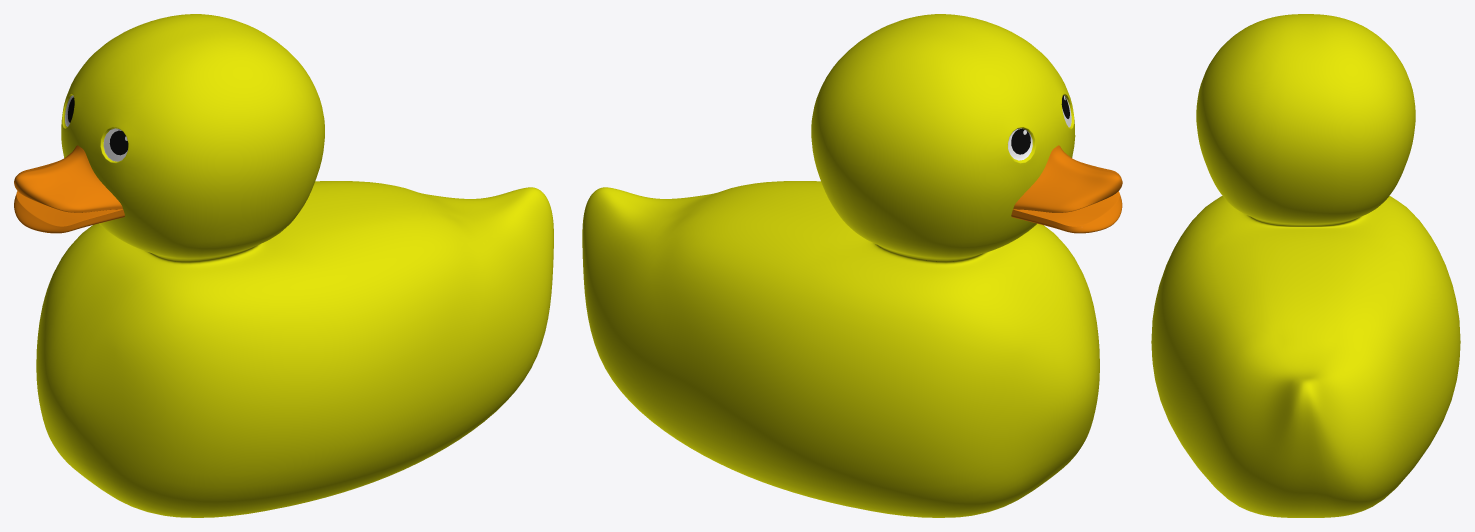
The picture shows the model from 3 angles, left to right: view 1: azimuth 30°, elevation 25°; view 2: azimuth 150°, elevation 25°; view 3: azimuth 270°, elevation 25°; orthographic projection. The views are drawn at different scales.
Visible parts, largest first — view 1: rubber_duck; view 2: rubber_duck; view 3: rubber_duck.
Boxes of the visible parts, box(x1,y1,x2,y2) form: rubber_duck: box(14, 14, 553, 517); rubber_duck: box(582, 14, 1122, 517); rubber_duck: box(1151, 14, 1460, 517).
Bounding box in the file's own units: 0.3048 × 0.2515 × 0.1753.
Materials: 1 (1 with a texture image).
